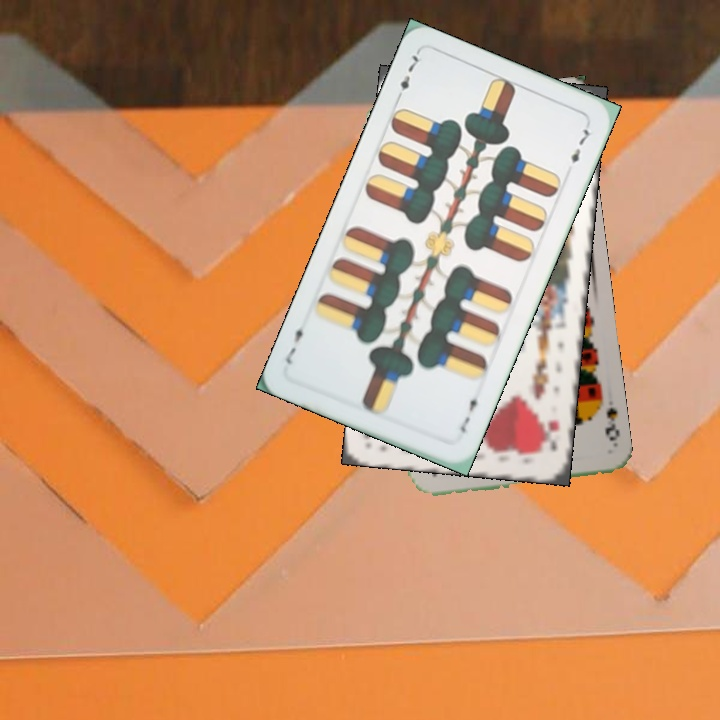E7: (391, 48, 425, 104), (456, 389, 483, 435)
HK: (536, 416, 563, 456)
S9: (590, 390, 622, 444)
